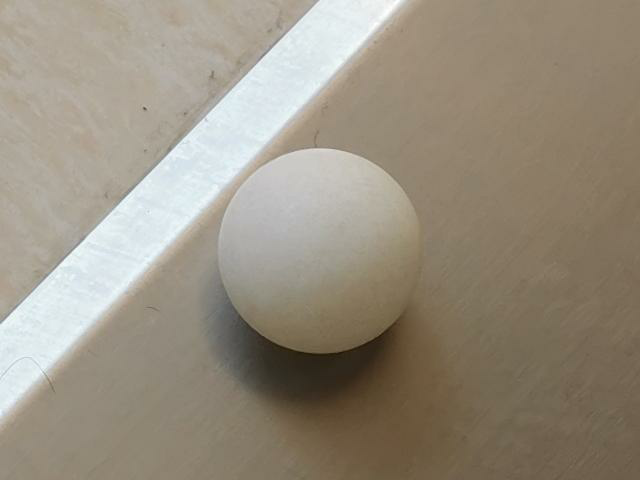ball: (217, 144, 425, 353)
